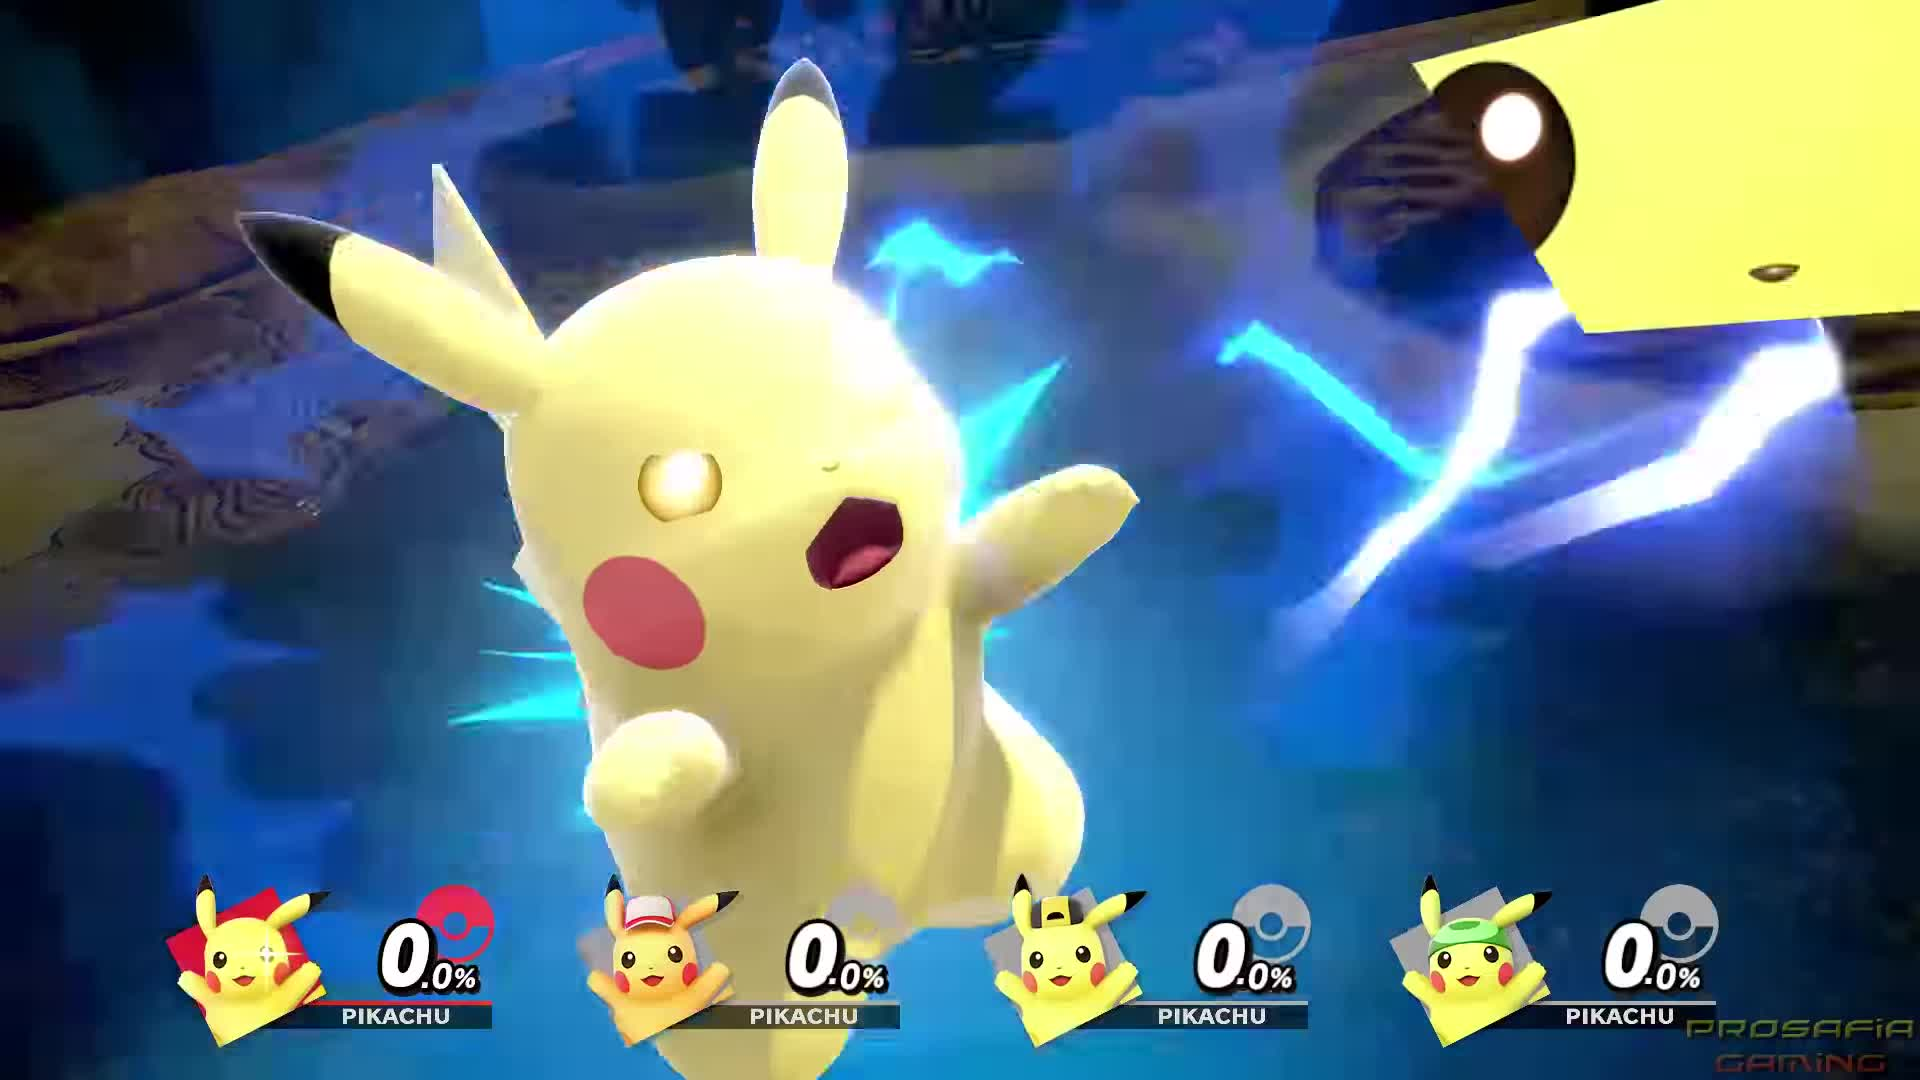pikachu: (237, 57, 1139, 1071), (556, 872, 750, 1055), (146, 873, 338, 1048), (1383, 872, 1560, 1048), (973, 876, 1154, 1044)
